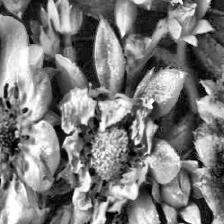Blossom Blight: (73, 107, 147, 201), (0, 79, 33, 186)
